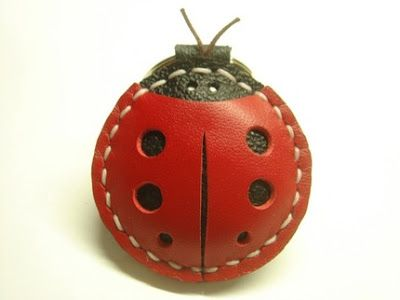cuero: (91, 44, 312, 285)
